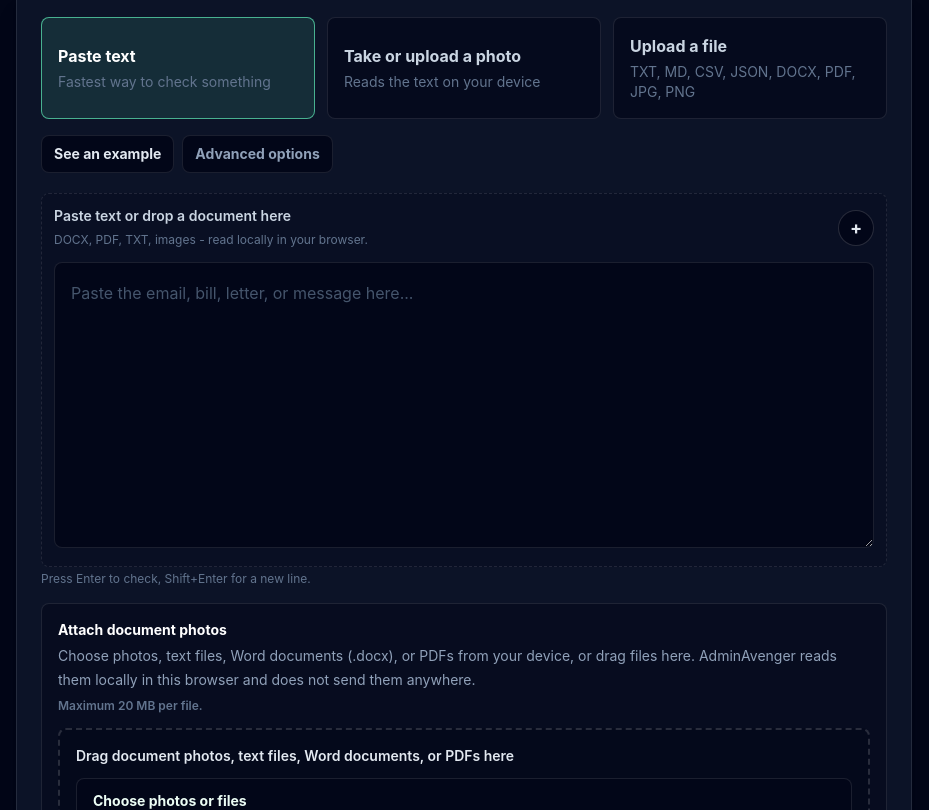
Test: Wales Care Path Return Clarity › keeps urgent support separate and Back restores the confirmation
(page scrolled)
Type "My sister needs help." into the text box labelled "Paste text or drop a document here" at [464, 405], box left=54, top=262, right=874, bottom=548
(page scrolled)
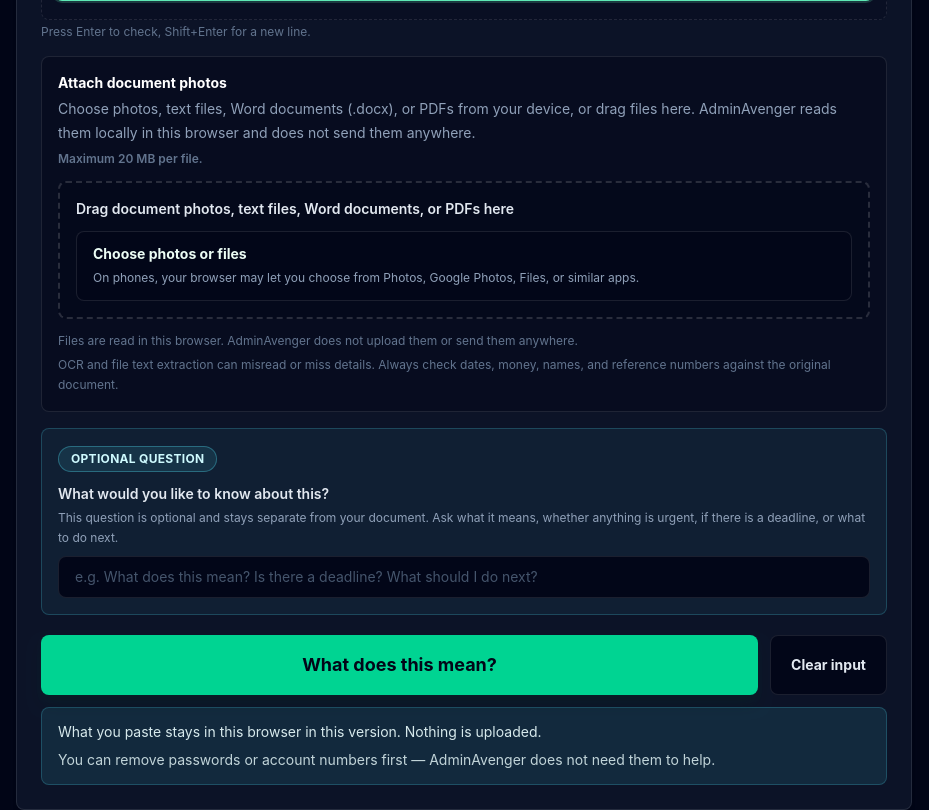
Click the button "What does this mean?" at [400, 665], box left=41, top=635, right=758, bottom=695
(page scrolled)
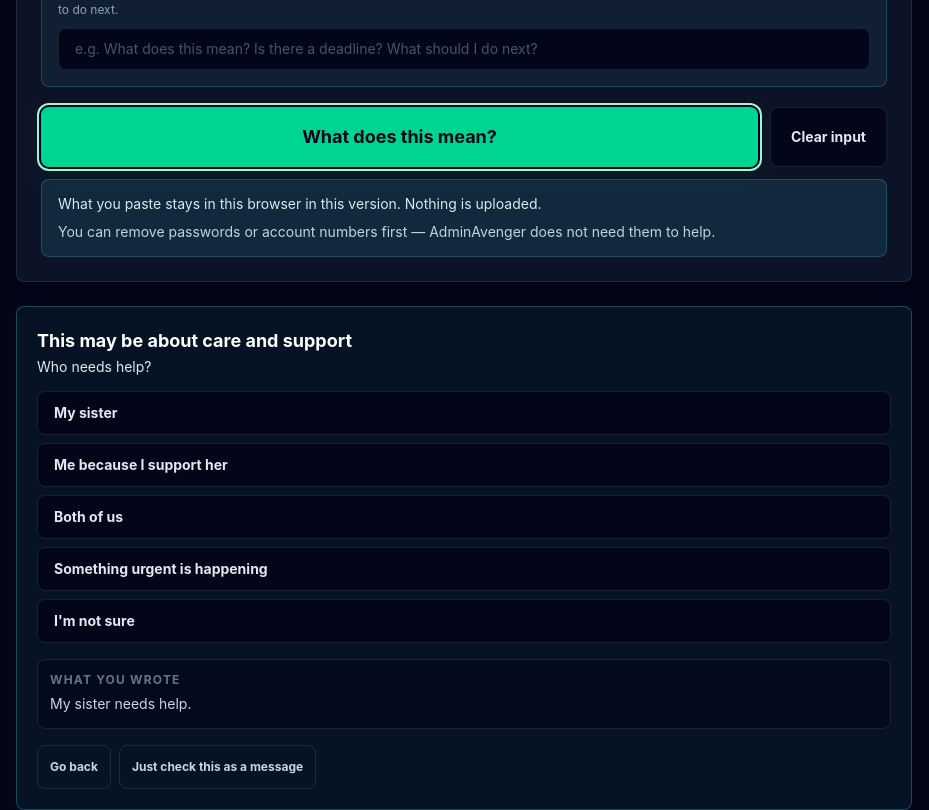
Click the button "Something urgent is happening" at [161, 568], box left=37, top=547, right=891, bottom=591
(page scrolled)
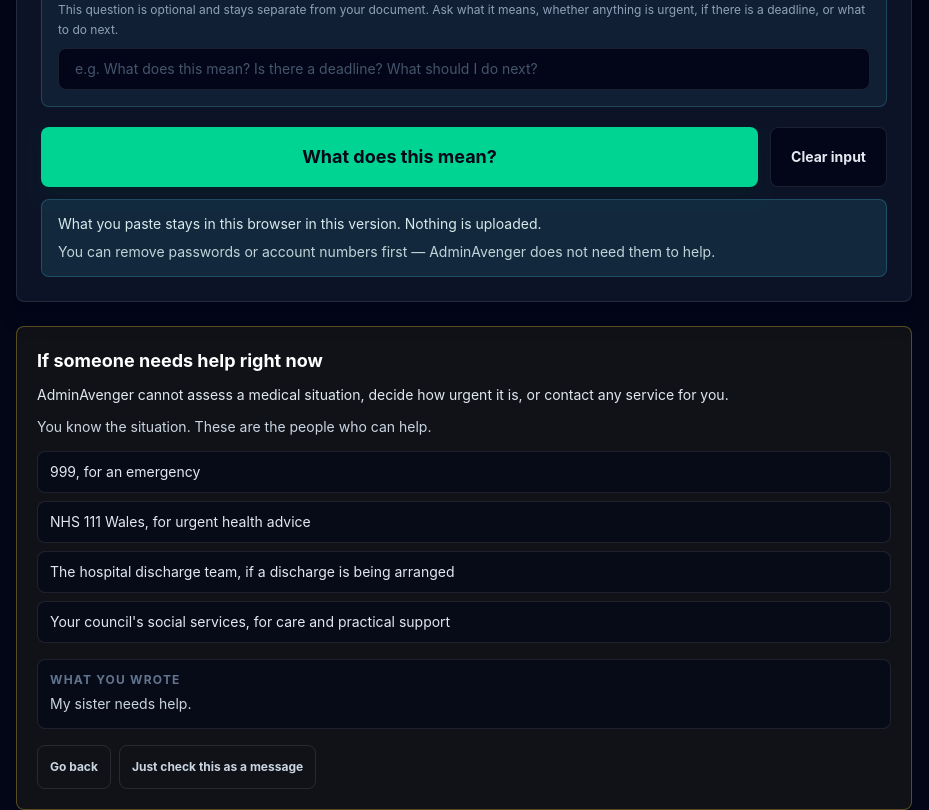
Check: the button "Just check this as a message" is shown, box left=119, top=745, right=316, bottom=789
Check: the element named "Urgent support" is shown, box left=16, top=326, right=912, bottom=809
Click the button "Go back" at [74, 767], box left=37, top=745, right=111, bottom=789
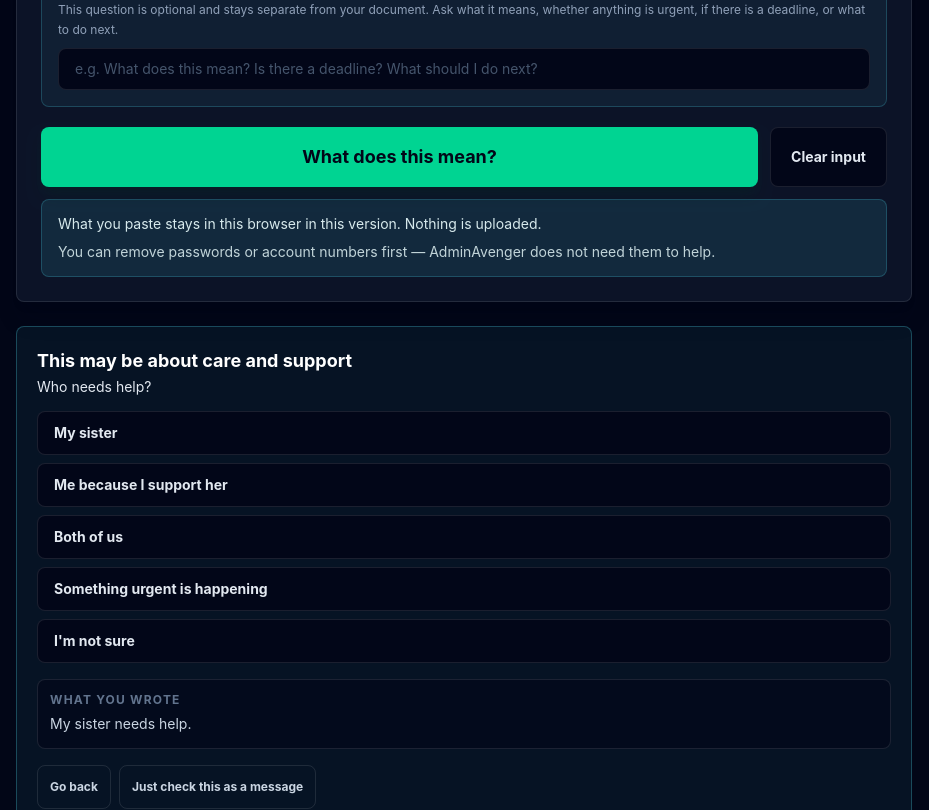
Check: the element "Who needs help?" is shown, box left=37, top=375, right=891, bottom=663
